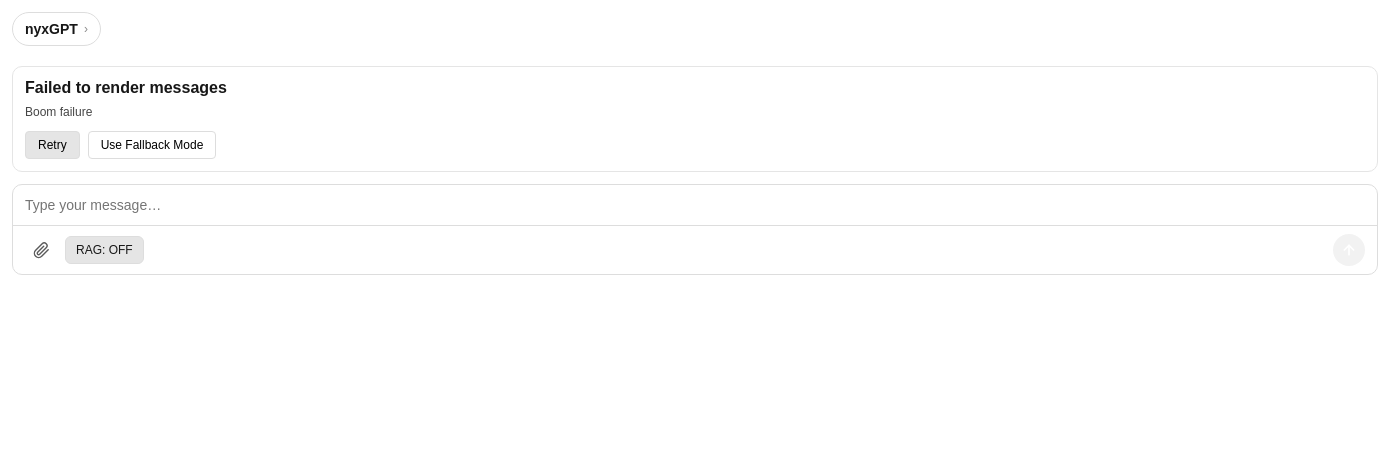
Test: VirtuosoErrorBoundary › strips "at ..." stack lines and file paths from the error message
The image size is (1390, 450).
Expected: the text "Failed to render messages" is shown, [25,79,227,96]
Use Fallback Mode renders all messages without virtualization.
Click the button "Use Fallback Mode" at point(152, 145), box [88,131,216,159]
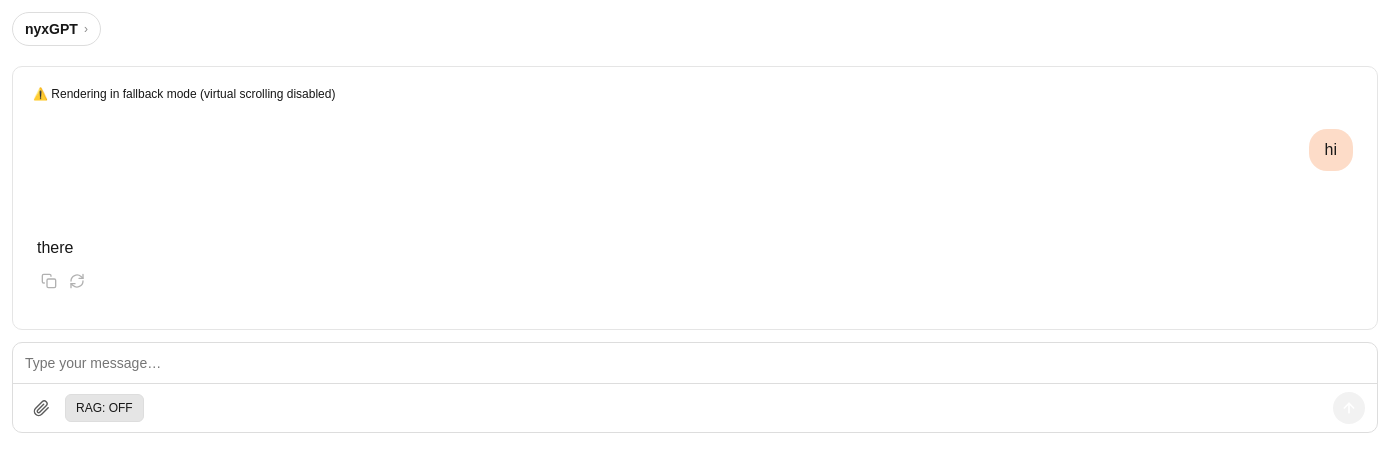
Expected: the text "⚠️ Rendering in fallback mode (virtual scrolling disabled)" is shown, [33,87,336,101]
Expected: the text "hi" is shown, [1324,141,1337,159]
Expected: the text "there" is shown, [37,239,74,257]
